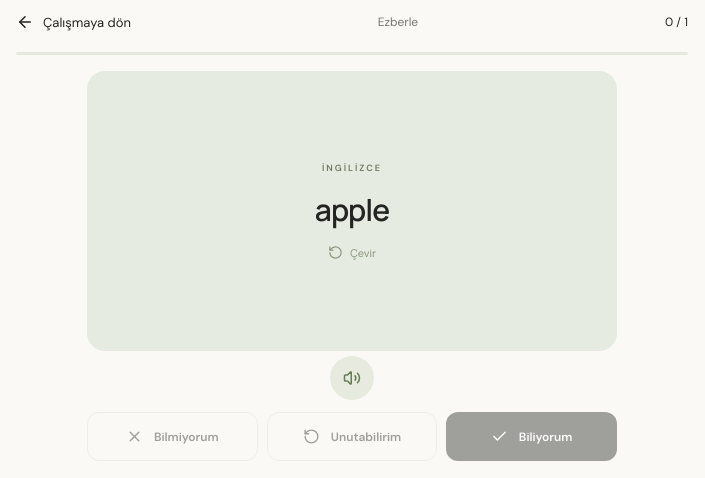
study flows › reveals the English example only on the meaning side of a card
The width and height of the screenshot is (705, 478).
Expected: the text "I ate an apple after lunch." is not shown
Click the button with aria-label "Türkçe anlamı göster" at (352, 211), box [87,71,617,351]
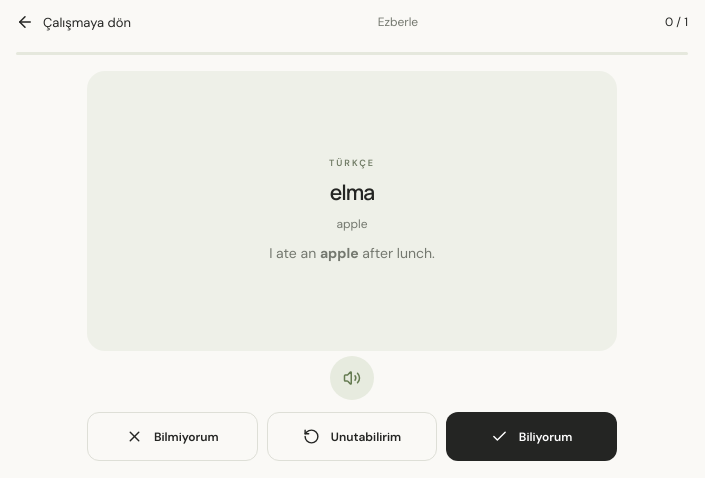
Expected: the 2nd text "apple" is shown, [320,244,359,262]
Click the button with aria-label "İngilizce kelimeyi göster" at (352, 211), box [87,71,617,351]
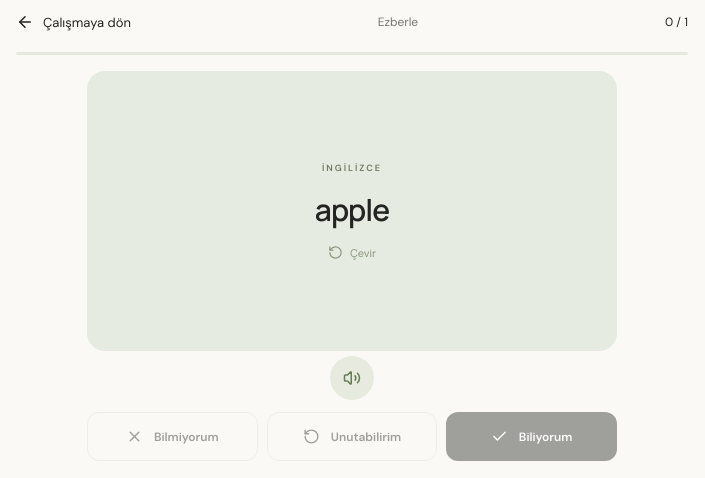
Expected: the text "I ate an apple after lunch." is gone
